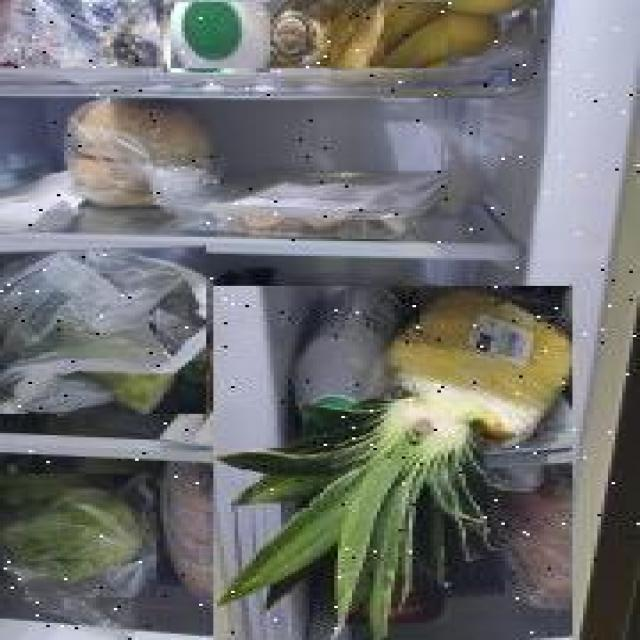banana: (374, 0, 502, 60), (355, 0, 448, 68), (330, 0, 384, 70)
broccoli: (0, 245, 206, 414)
milk: (378, 280, 499, 438), (164, 0, 270, 73), (164, 2, 263, 68)
pineapple: (213, 286, 572, 640)
salad: (0, 473, 156, 597)
